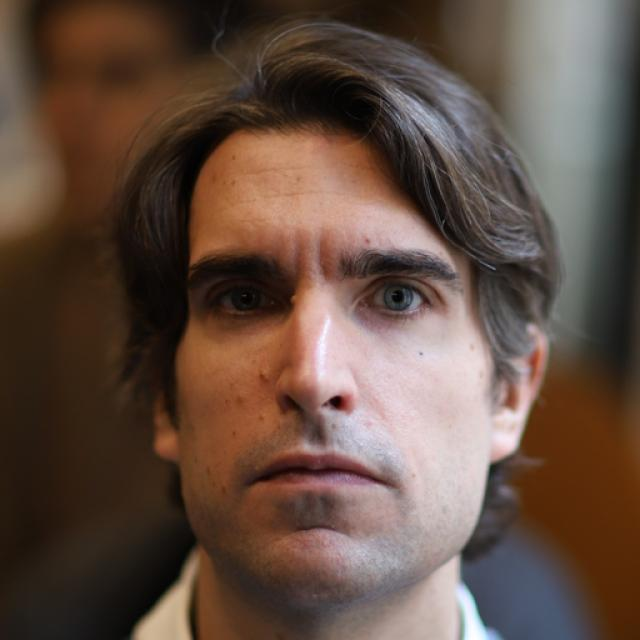anger: (174, 120, 492, 605)
